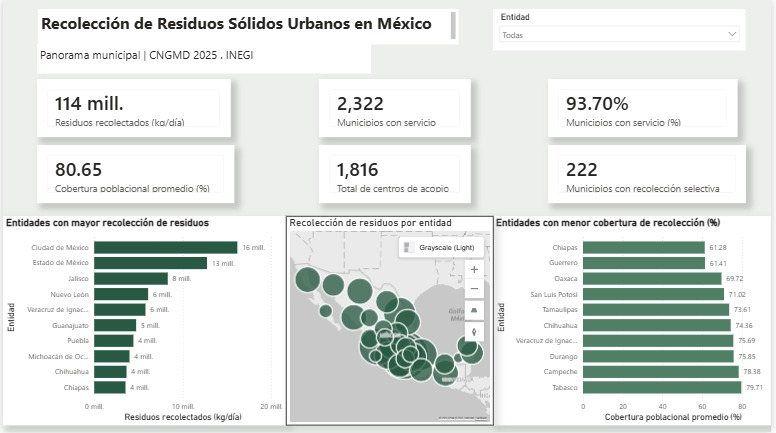

What the dashboard file says about the page in this screenshot:
{"tool":"powerbi","page":{"name":"01 - Resumen ejecutivo","canvas":[1280,720],"ordinal":0},"visuals":[{"type":"cardVisual","fields":{"Data":["servicio_cngmd2025.Residuos Recolectados Kg Día"]},"box":[57.1,131.4,322.9,97.1],"z":0},{"type":"cardVisual","fields":{"Data":["servicio_cngmd2025.Municipios con Servicio"]},"box":[527.1,131.4,252.9,97.1],"z":1000},{"type":"cardVisual","fields":{"Data":["servicio_cngmd2025.Porcentaje Municipios con Servicio"]},"box":[908.6,131.4,315.7,97.1],"z":2000},{"type":"cardVisual","fields":{"Data":["servicio_cngmd2025.Municipios con Recoleccion Selectiva"]},"box":[908.6,241.4,330,97.1],"z":4000},{"type":"cardVisual","fields":{"Data":["servicio_cngmd2025.Total Centros de Acopio"]},"box":[527.1,241.4,252.9,97.1],"z":5000},{"type":"slicer","fields":{"Values":["Dim_Geografia.Entidad"]},"box":[817.1,14.3,421.4,68.6],"z":6000},{"type":"clusteredBarChart","title":"Entidades con mayor recolección de residuos","fields":{"Category":["Dim_Geografia.Entidad"],"Y":["servicio_cngmd2025.Residuos Recolectados Kg Día"]},"box":[0,360,471.4,348.6],"z":7000},{"type":"clusteredBarChart","title":"Entidades con menor cobertura de recolección (%)","fields":{"Category":["Dim_Geografia.Entidad"],"Y":["servicio_cngmd2025.Cobertura Promedio Poblacion"]},"box":[817.1,360,462.9,348.6],"z":8000},{"type":"azureMap","title":"Recolección de residuos por entidad","fields":{"Category":["Dim_Geografia.Entidad"],"Size":["servicio_cngmd2025.Residuos Recolectados Kg Día"]},"box":[471.4,360,345.7,348.6],"z":9000},{"type":"textbox","box":[57.6,14.4,701.3,59],"z":10000},{"type":"textbox","box":[57.1,72.9,557.1,48.6],"z":11001},{"type":"cardVisual","fields":{"Data":["servicio_cngmd2025.Cobertura poblacional promedio (%)"]},"box":[57.1,241.4,328.6,97.1],"z":11002}]}

Visuals, with their boxes in screenshot pixels (x1, y1, x2, y2), scaled from the page's 1280x720 canvas onto the 776x433 screenshot:
cardVisual - servicio_cngmd2025.Residuos Recolectados Kg Día: 35 79 230 137
cardVisual - servicio_cngmd2025.Municipios con Servicio: 320 79 473 137
cardVisual - servicio_cngmd2025.Porcentaje Municipios con Servicio: 551 79 742 137
cardVisual - servicio_cngmd2025.Municipios con Recoleccion Selectiva: 551 145 751 204
cardVisual - servicio_cngmd2025.Total Centros de Acopio: 320 145 473 204
slicer - Dim_Geografia.Entidad: 495 9 751 50
"Entidades con mayor recolección de residuos" clusteredBarChart: 0 216 286 426
"Entidades con menor cobertura de recolección (%)" clusteredBarChart: 495 216 775 426
"Recolección de residuos por entidad" azureMap: 286 216 495 426
textbox: 35 9 460 44
textbox: 35 44 372 73
cardVisual - servicio_cngmd2025.Cobertura poblacional promedio (%): 35 145 234 204
